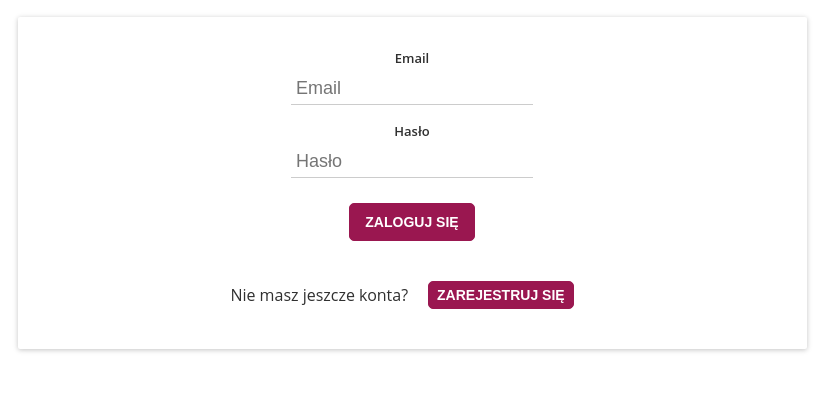
shows error message when trying to submit empty form
Expected: the text "musisz wpisać email" is not shown
Click the button "Zaloguj się". click: (412, 222)
box: [349,203,475,241]
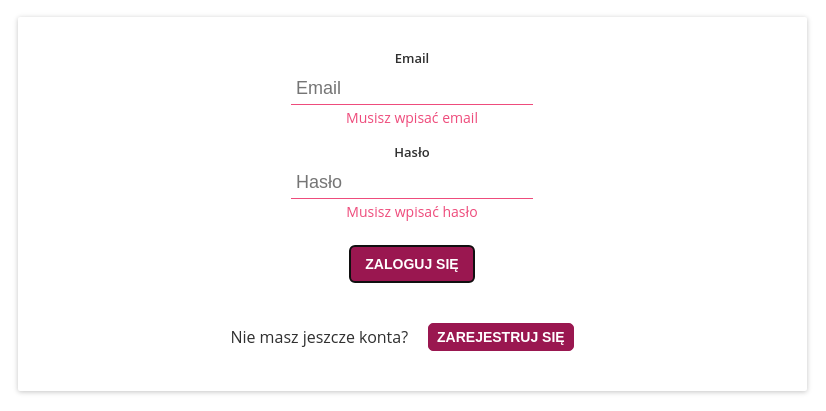
Result: the text "Musisz wpisać email" is shown at [346,108,478,127]
